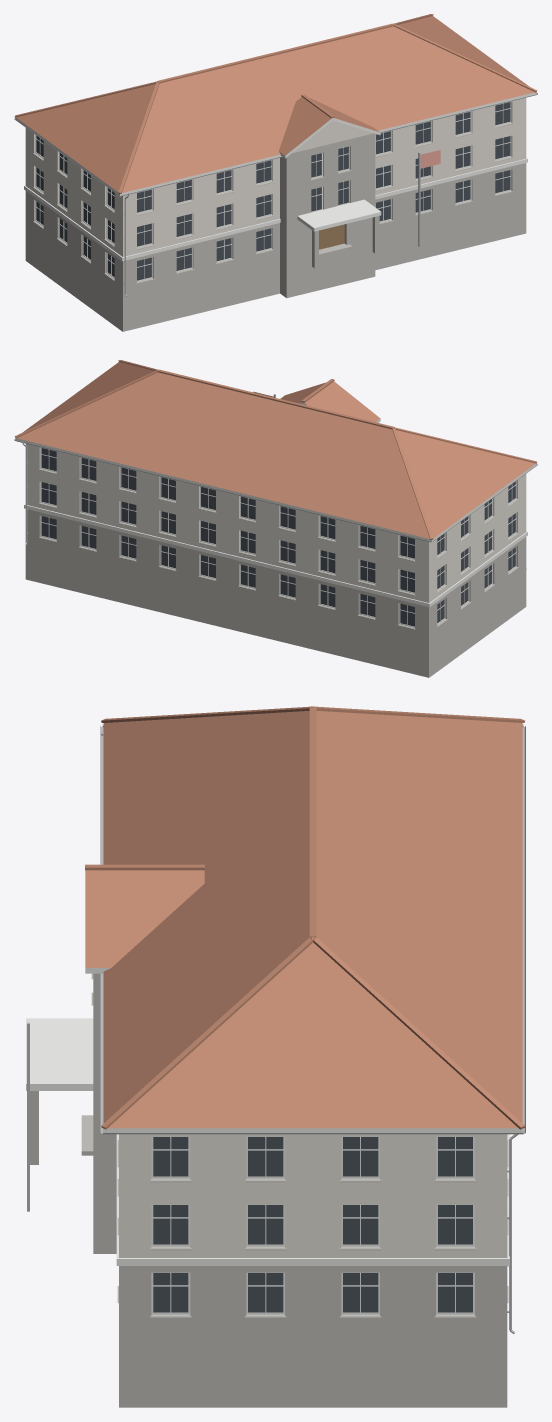
File: public_hipped_3_l.glb
The picture shows the model from 3 angles, top to bottom: view 1: azimuth 30°, elevation 25°; view 2: azimuth 150°, elevation 25°; view 3: azimuth 270°, elevation 25°; orthographic projection. The views are drawn at different scales.
Visible parts, largest first — view 1: public_hipped_3_l; view 2: public_hipped_3_l; view 3: public_hipped_3_l.
Boxes of the visible parts, x1,y1,x2,y2 form: public_hipped_3_l: (14,14,537,331); public_hipped_3_l: (14,360,537,677); public_hipped_3_l: (26,706,525,1407).
Bounding box in the file's own units: 37.39 × 16.58 × 19.32.
